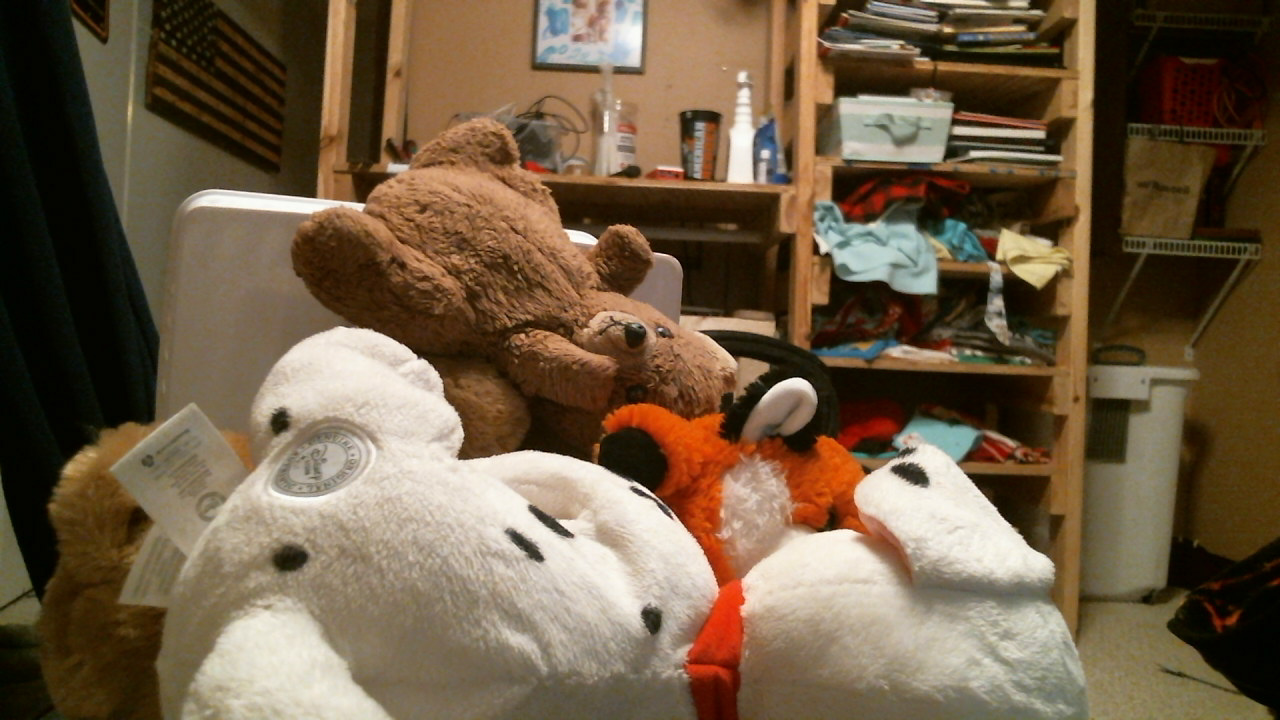Little_Mister_Bear: (581, 323, 691, 413)
